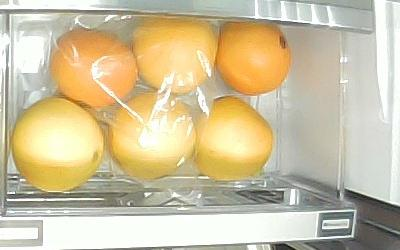grapefruit: (11, 96, 105, 193), (191, 95, 273, 182), (214, 20, 292, 96)
grapefruit_vinyl: (108, 92, 197, 180), (49, 28, 138, 110), (132, 16, 218, 94)
